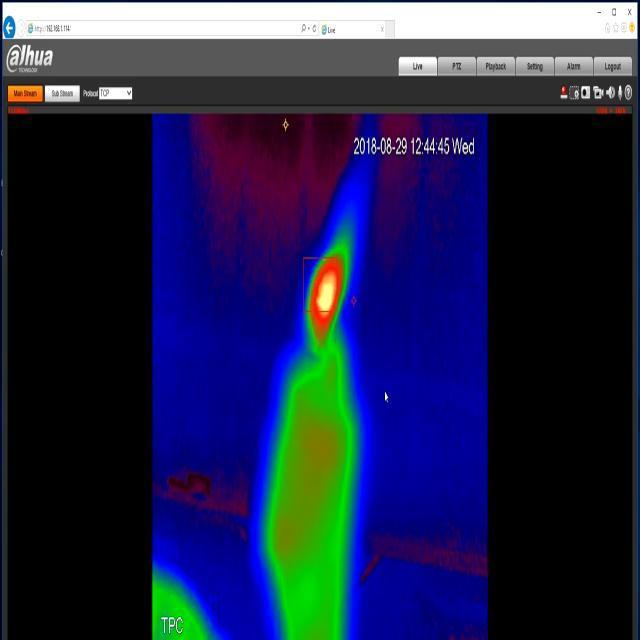fire: (309, 234, 352, 351)
